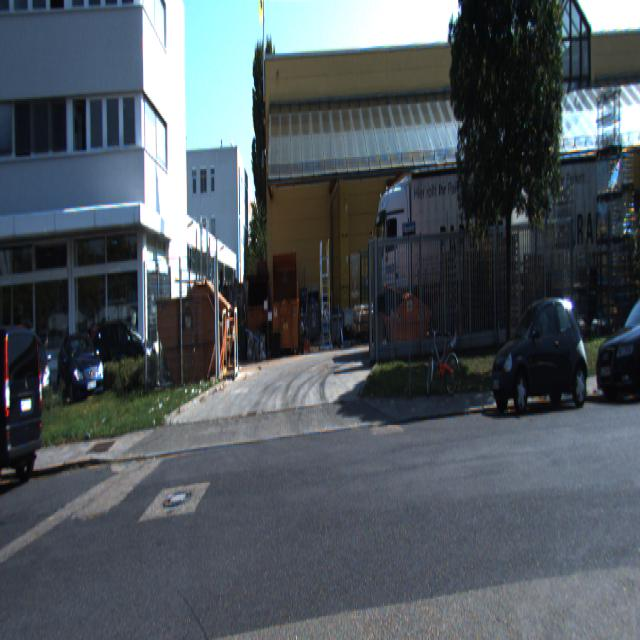Car: (374, 146, 516, 337), (490, 292, 590, 408), (0, 321, 47, 501), (58, 328, 106, 416)
